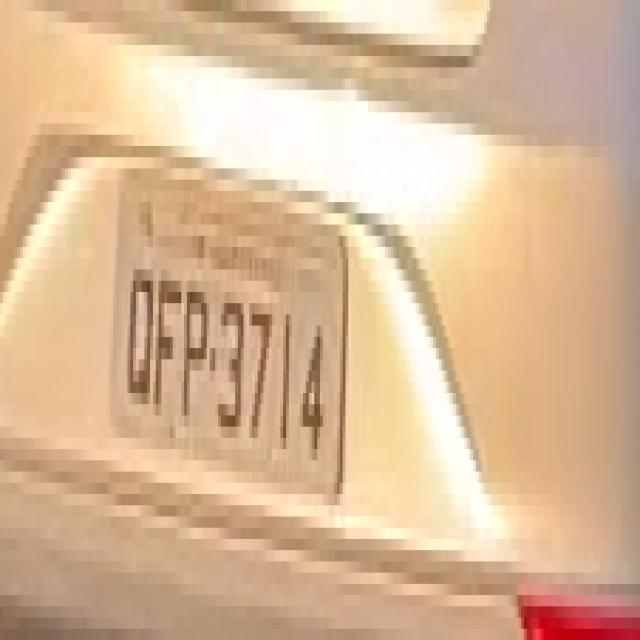Placa_mercosul_carro: (110, 162, 349, 504)
